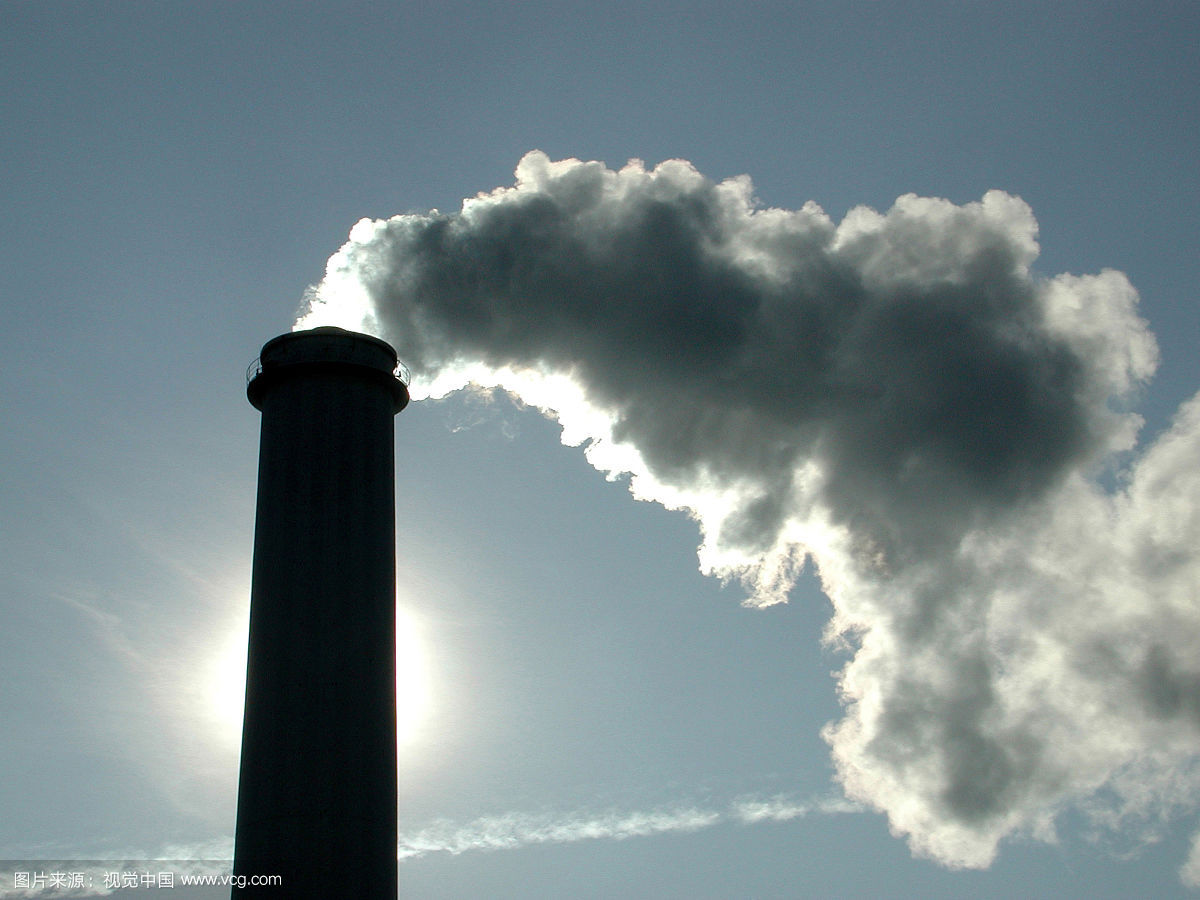dust: (243, 136, 876, 461)
